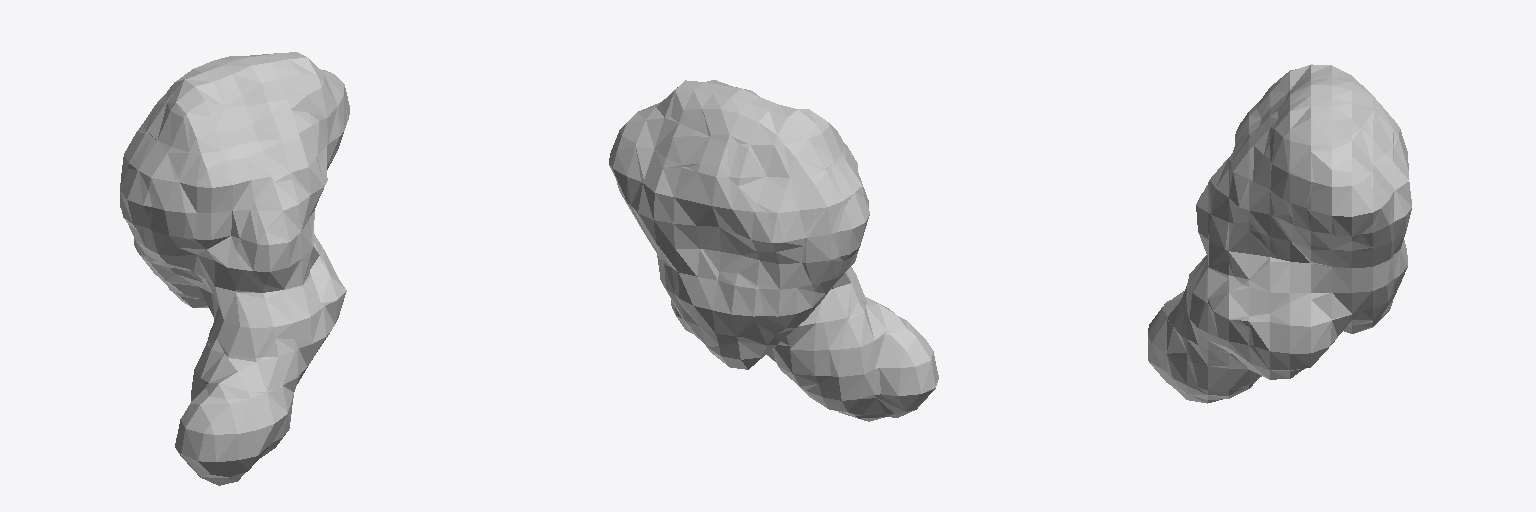
File: 1ob2_cms.obj
3 renders of one model, left to right at view 1: azimuth 30°, elevation 25°; view 2: azimuth 150°, elevation 25°; view 3: azimuth 270°, elevation 25°, orthographic.
Size of the model in its own units: 78.25 by 108 by 73.63.